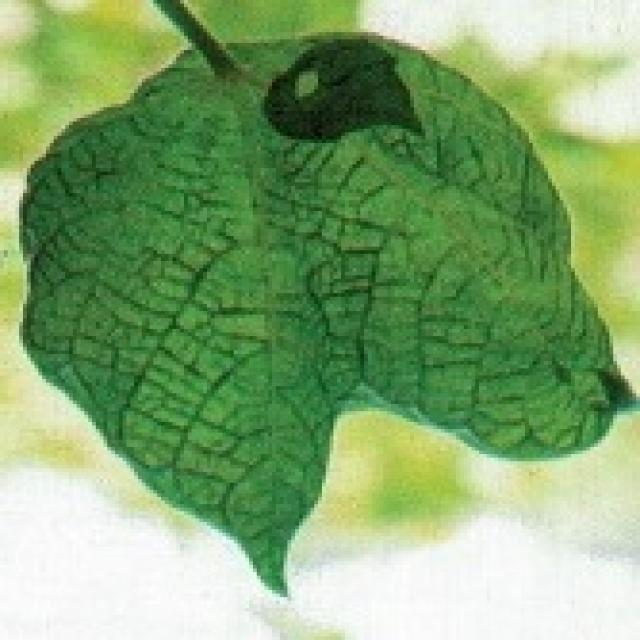Leaf Curl Virus: (171, 27, 455, 336)
